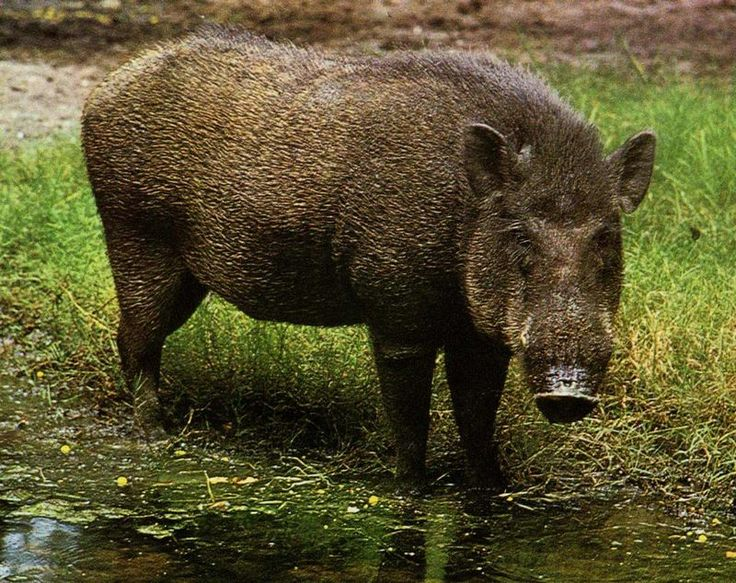wild boar: (69, 19, 664, 512)
